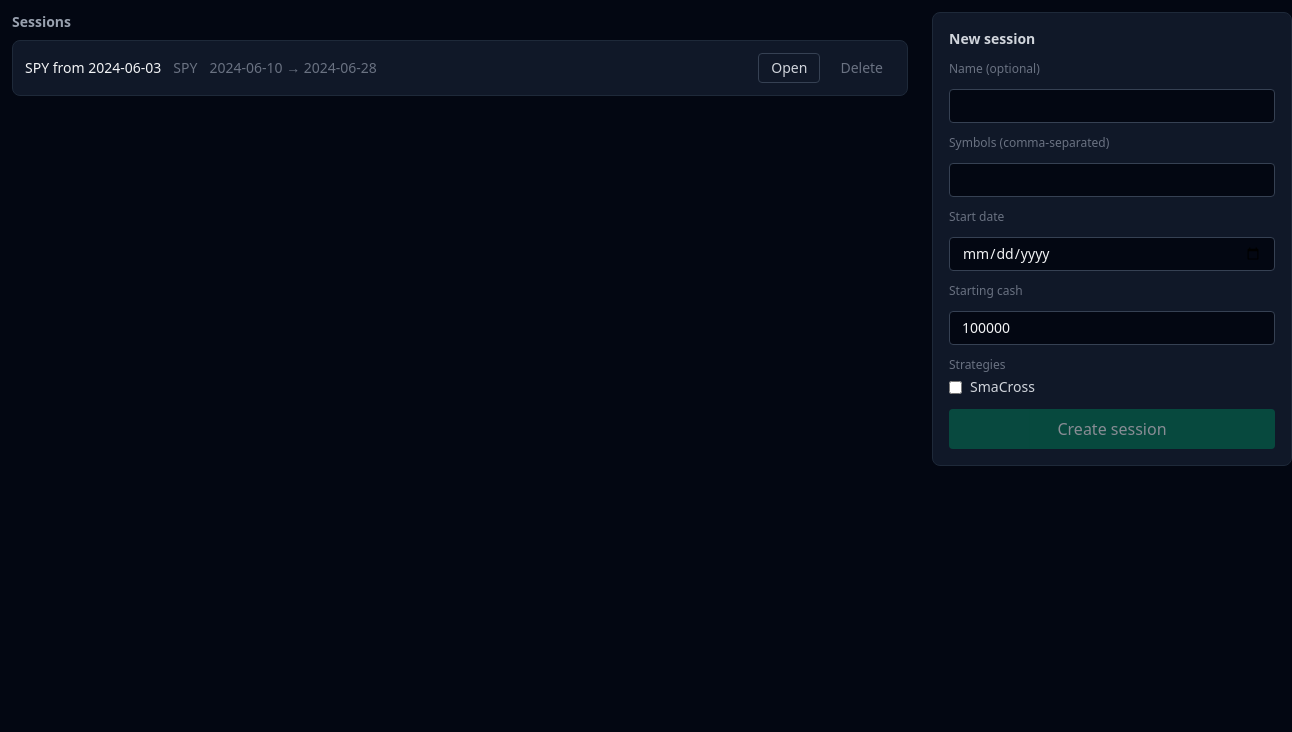
shows the backend's coverage error on creation failure
Expected: the text "SPY from 2024-06-03" is shown, [25, 58, 161, 78]
Type "SPY" into the field labelled "Symbols (comma-separated)" at (1112, 180), box [949, 163, 1275, 197]
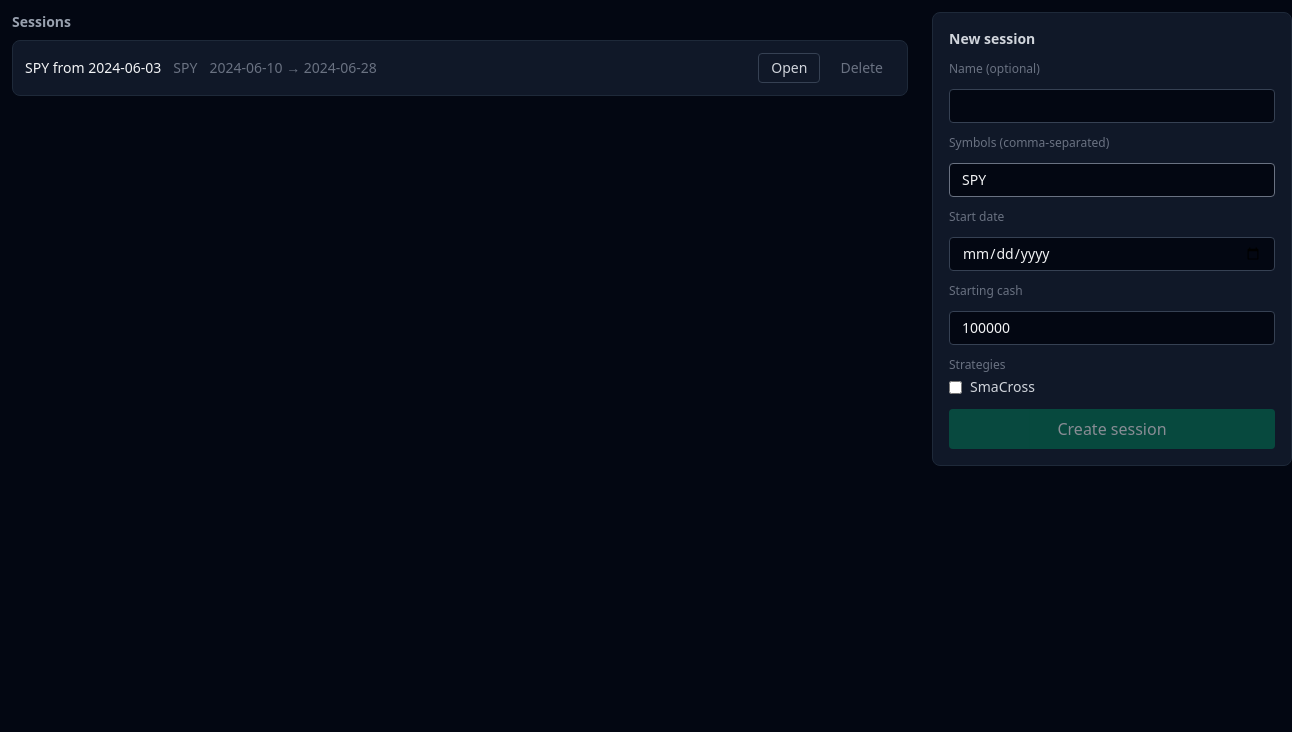
Type "2024-06-03" into the date field labelled "Start date" at (1112, 254), box [949, 237, 1275, 271]
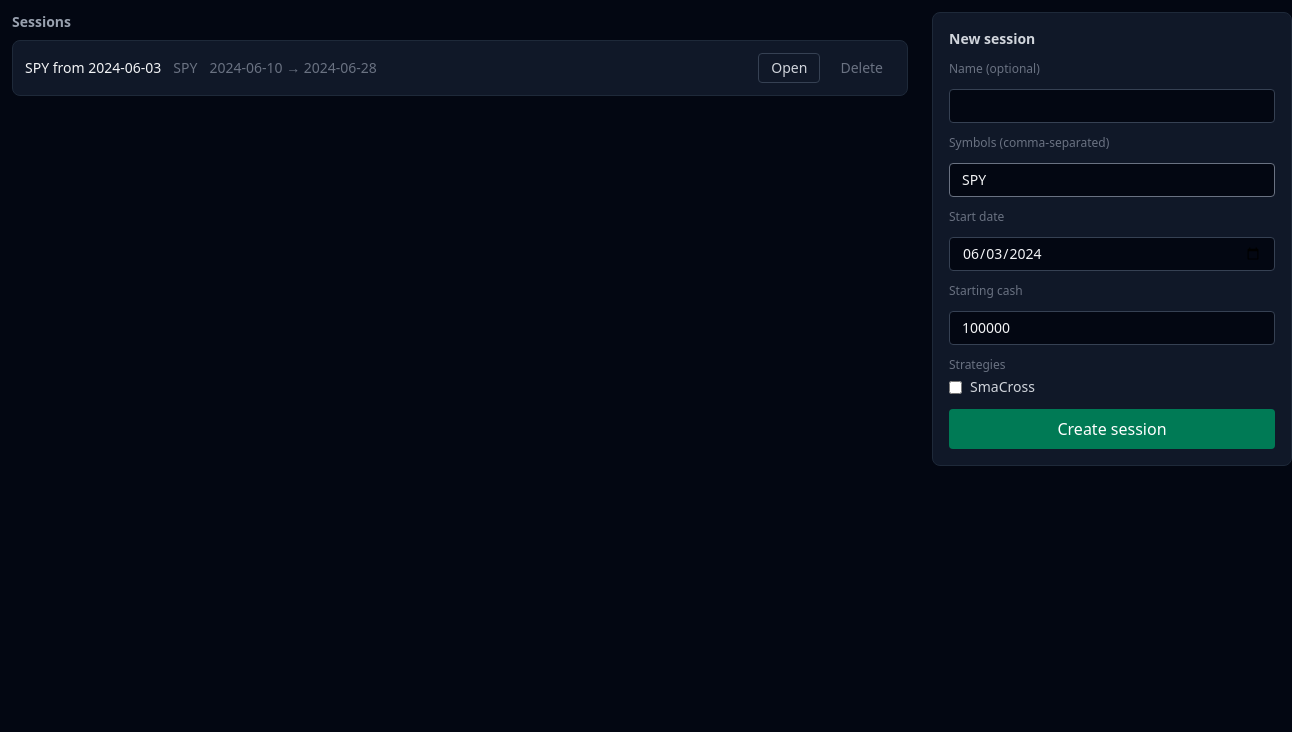
Click the button "Create session" at (1112, 429), box [949, 409, 1275, 449]
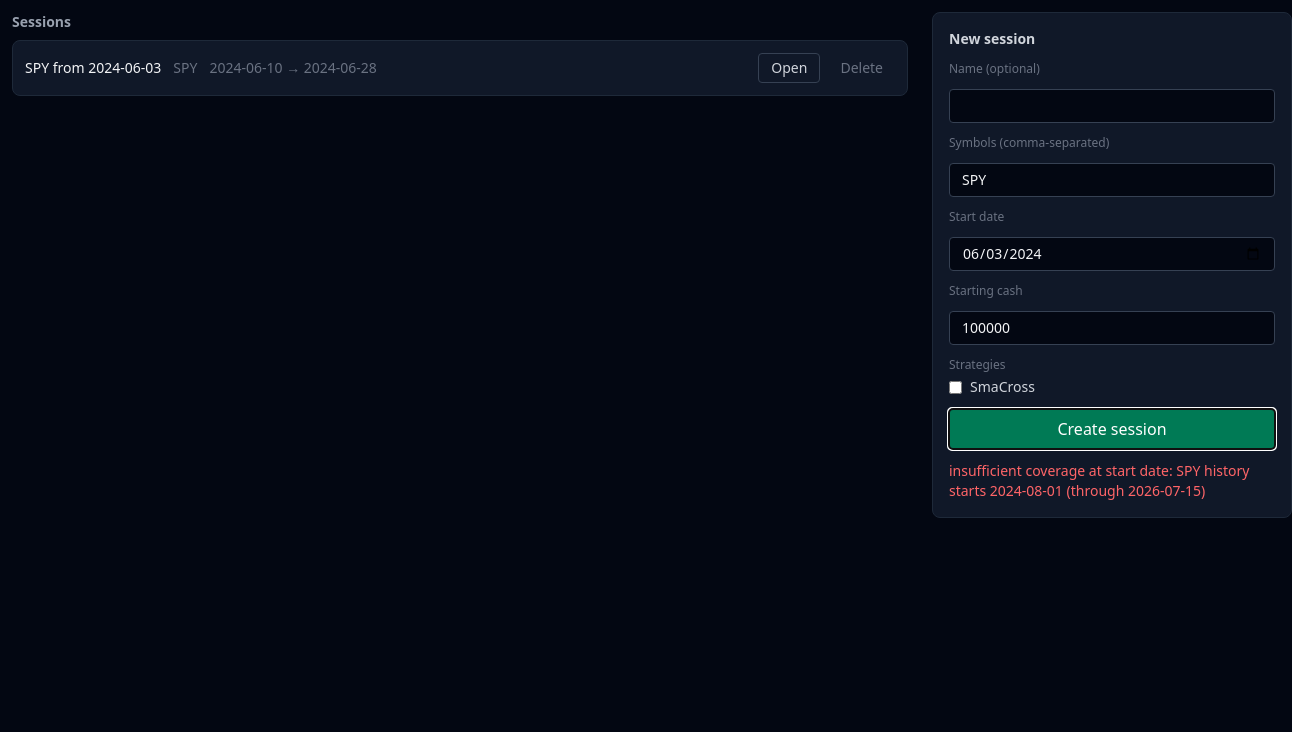
Now the text "SPY history starts 2024-08-01" is shown, box [949, 461, 1250, 500]
